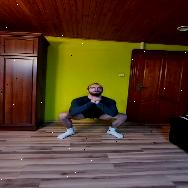squats: (55, 79, 132, 144)
